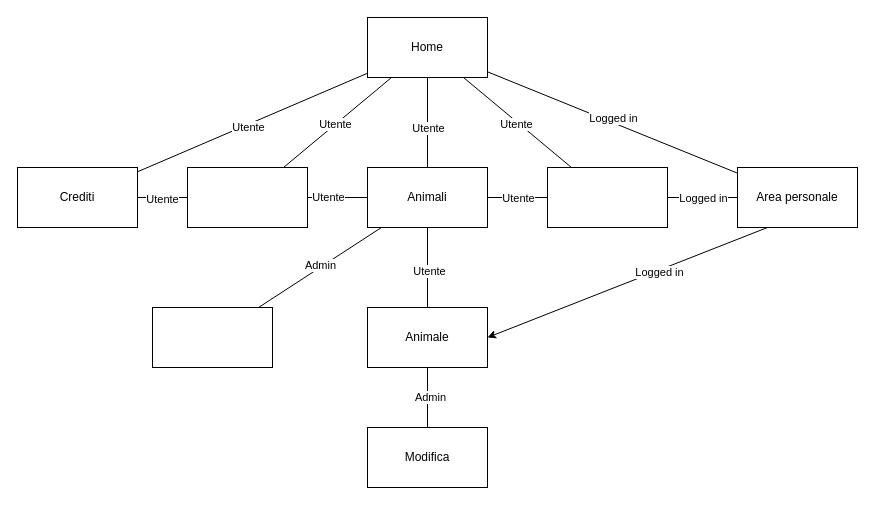
This 875x505 diagram has some shape labels left out. Each missing label, with the box of its shape:
Aggiungi: (152, 306, 272, 368)
Chi Siamo: (186, 166, 308, 228)
Login: (546, 166, 668, 228)
